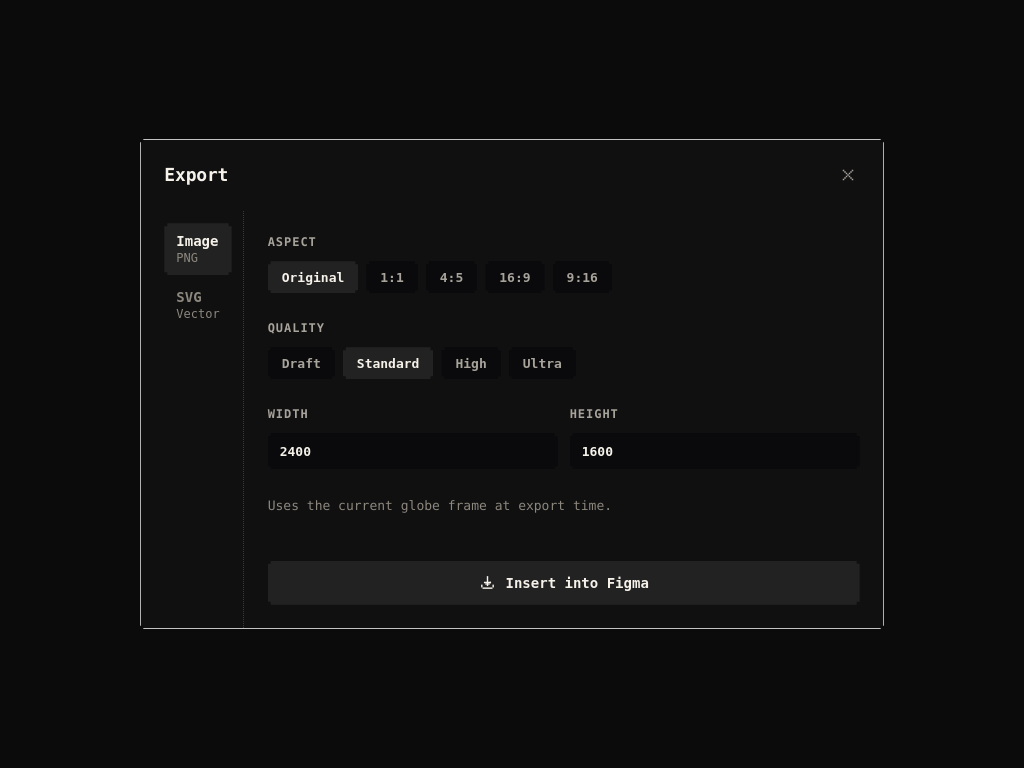
Test: ExportModal › the note on what vectors leave out › shows in the Figma plugin's SVG tab too
The image size is (1024, 768).
Click the tab "SVG Vector": (198, 305) [164,279,232,331]
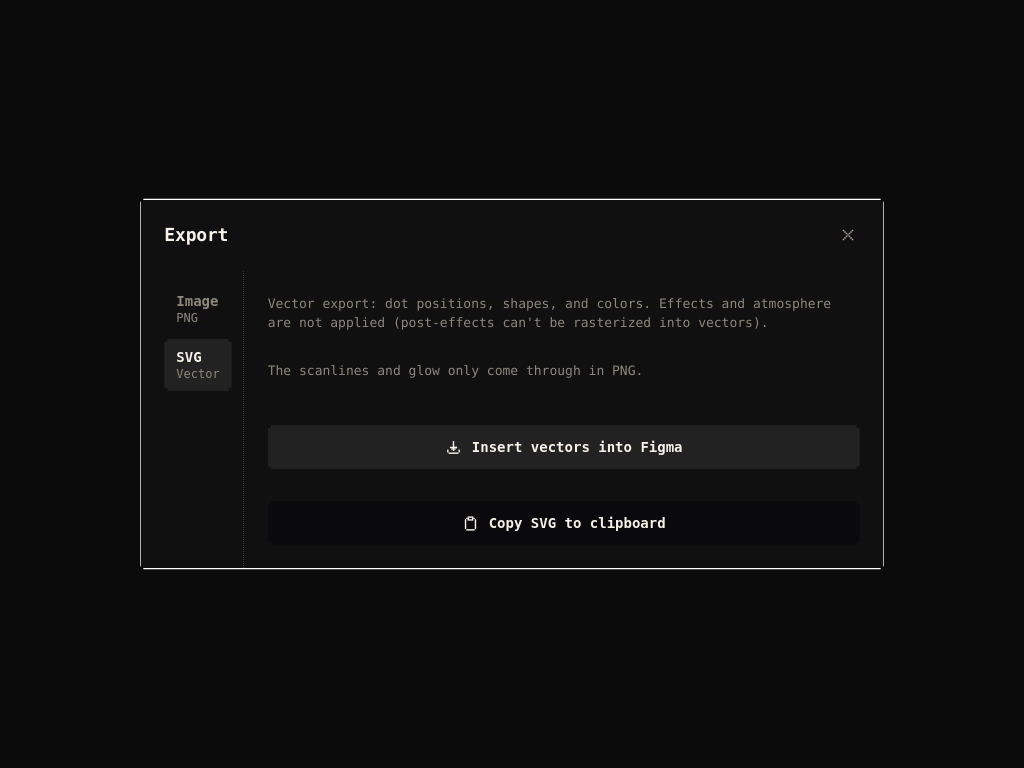
Expected: the button "Insert vectors into Figma" is shown, [268,425,860,469]
